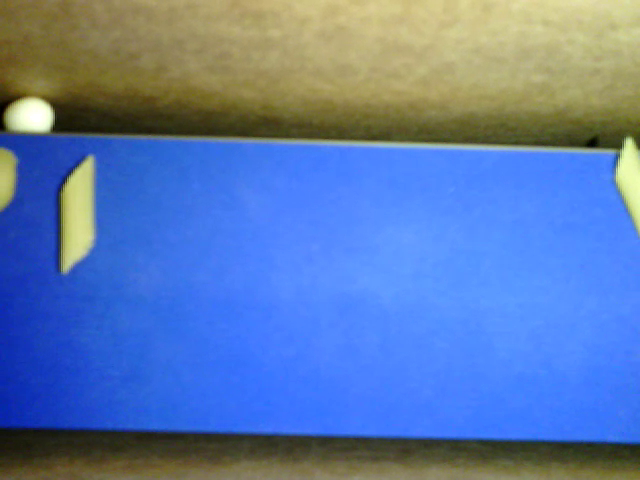penne: (59, 154, 96, 275), (615, 136, 639, 236)
